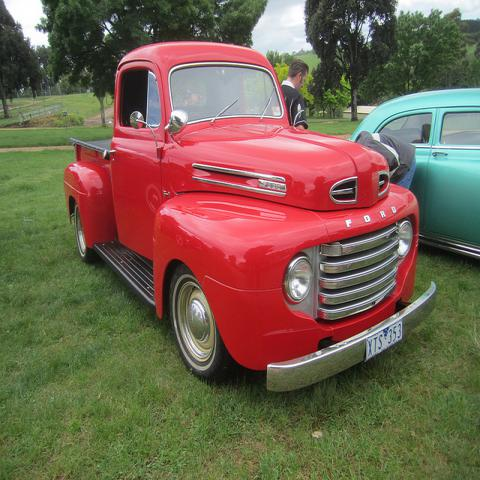car: (63, 41, 438, 394), (350, 94, 477, 257)
truck: (63, 36, 440, 401)
